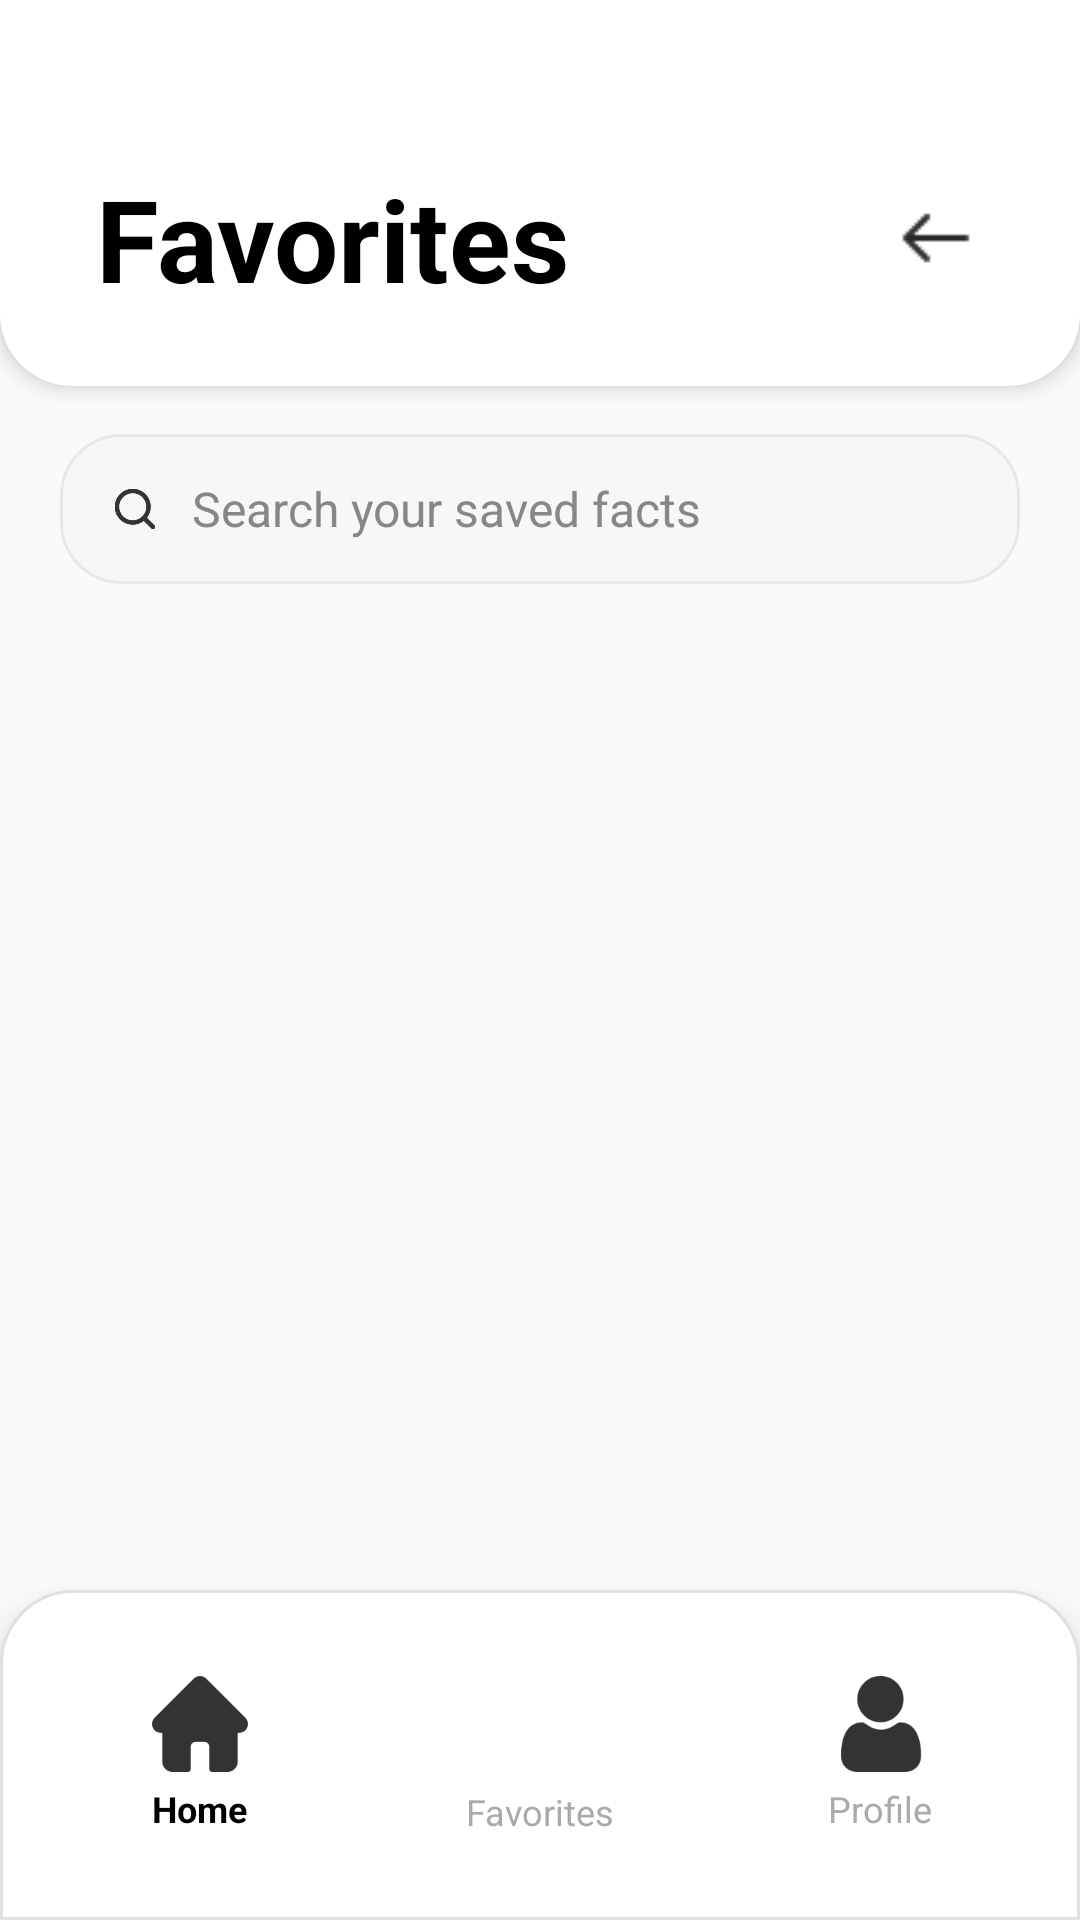

Icon click points for this 1080 x 1920 phone screenshot, format (x=x, y=y):
back: (x=936, y=238)
person: (x=881, y=1724)
